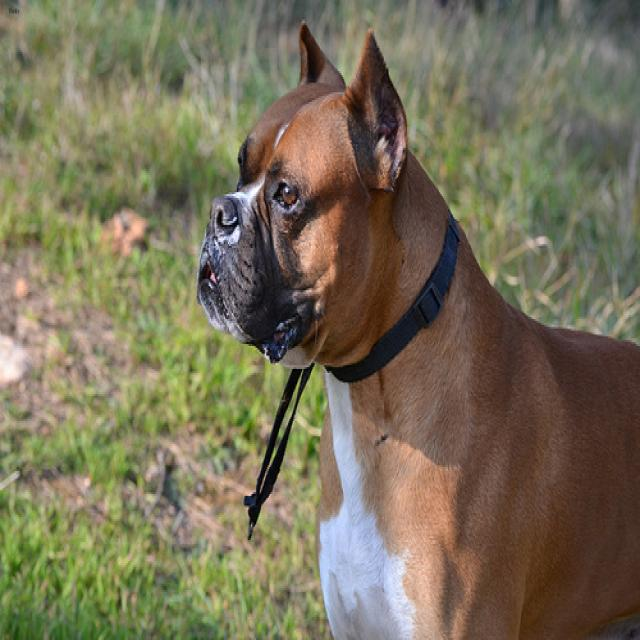dog-boxer: (189, 12, 637, 636)
